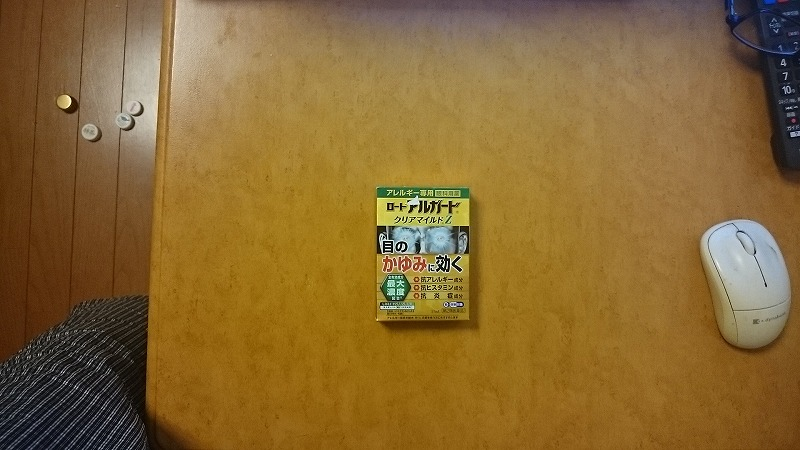C: (369, 181, 476, 331)
